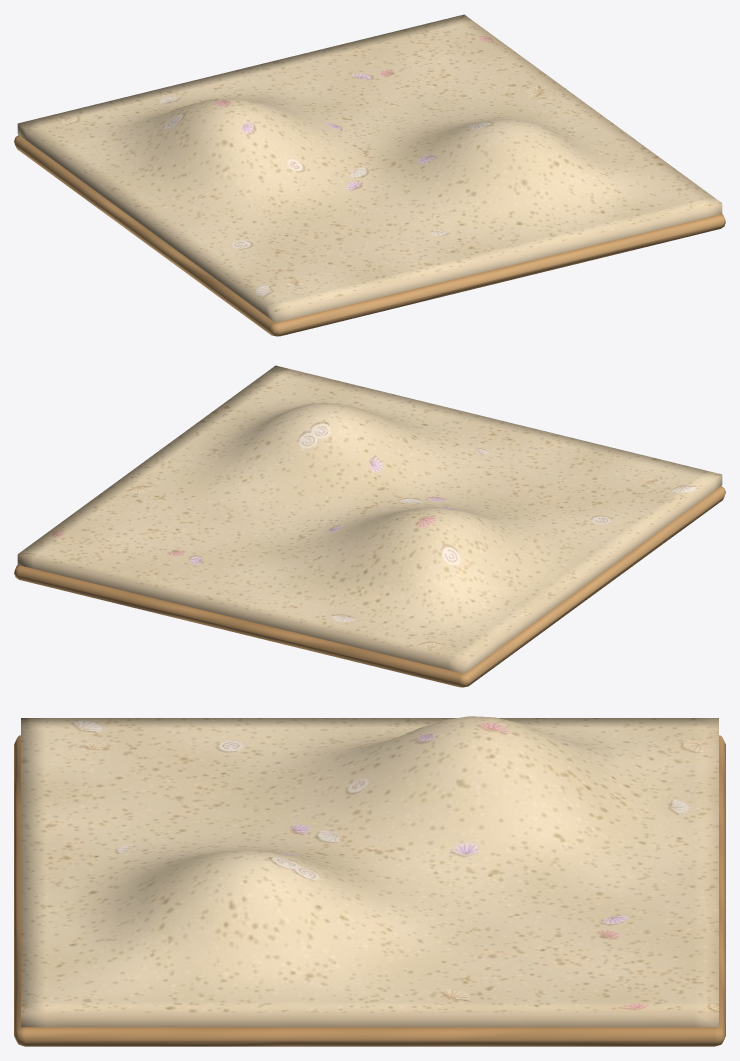
The model's file is tile_sand_mound_c.glb.
3 renders of one model, top to bottom at view 1: azimuth 30°, elevation 25°; view 2: azimuth 150°, elevation 25°; view 3: azimuth 270°, elevation 25°, orthographic. The views are drawn at different scales.
Parts seen in each view (by area): view 1: mound_top, base; view 2: mound_top, base; view 3: mound_top, base.
Boxes of the visible parts, box(x1,y1,x2,y2) form: mound_top: box(17, 14, 722, 322); base: box(14, 135, 725, 336); mound_top: box(17, 365, 722, 673); base: box(14, 486, 725, 687); mound_top: box(21, 716, 718, 1027); base: box(14, 735, 725, 1046).
Size of the model in its own units: 4 by 0.6654 by 4.
3 materials, 1 textured.
